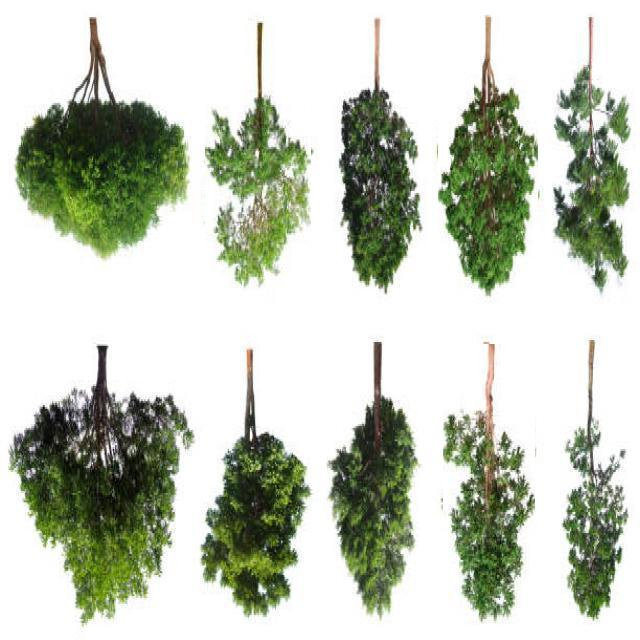tree: (14, 345, 190, 619), (15, 18, 189, 262), (200, 348, 308, 616), (205, 21, 311, 291), (438, 17, 538, 299), (443, 344, 535, 624), (330, 340, 418, 620), (339, 17, 421, 293), (551, 18, 629, 300), (558, 344, 630, 624)
